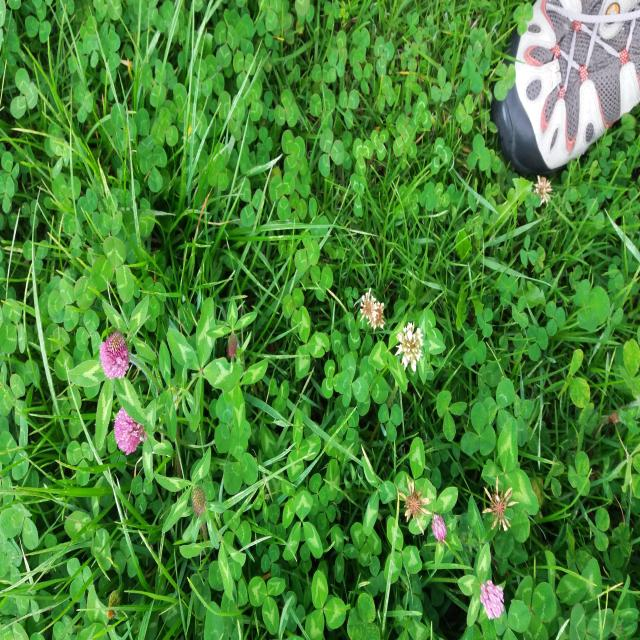Four Leaf Clover: (167, 297, 243, 432), (336, 352, 369, 408)
